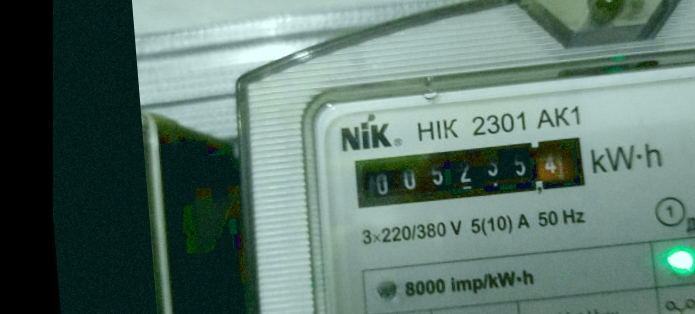0: (401, 165, 418, 190), (374, 169, 390, 195)
2: (456, 156, 474, 183)
3: (482, 151, 501, 177)
4: (540, 146, 561, 177)
5: (510, 148, 528, 177), (429, 160, 445, 186)
screen: (340, 125, 595, 217)
